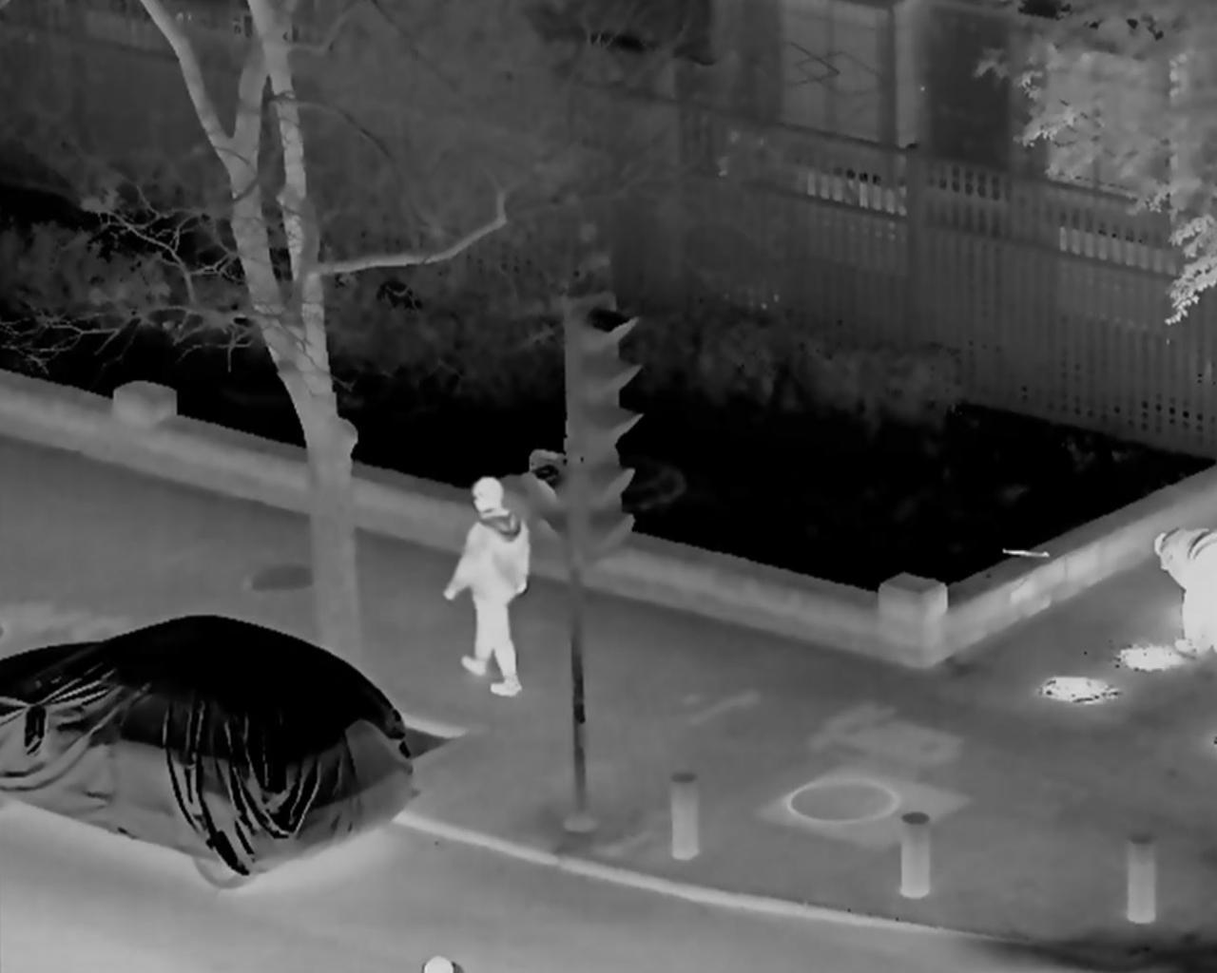person: (433, 474, 525, 700), (1153, 526, 1217, 658)
